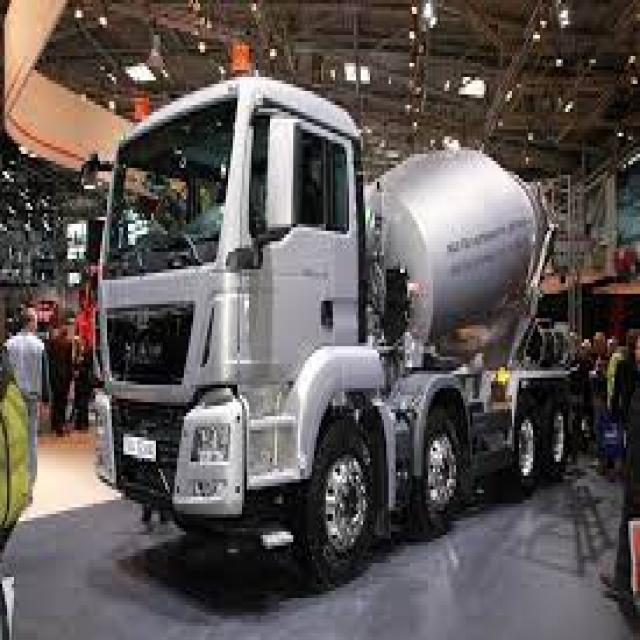Mixer Truck: (78, 39, 578, 586)
